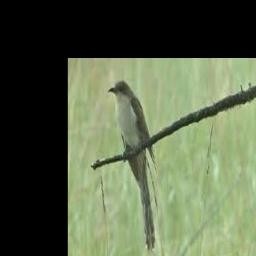Cuckoo: (109, 81, 158, 253)
